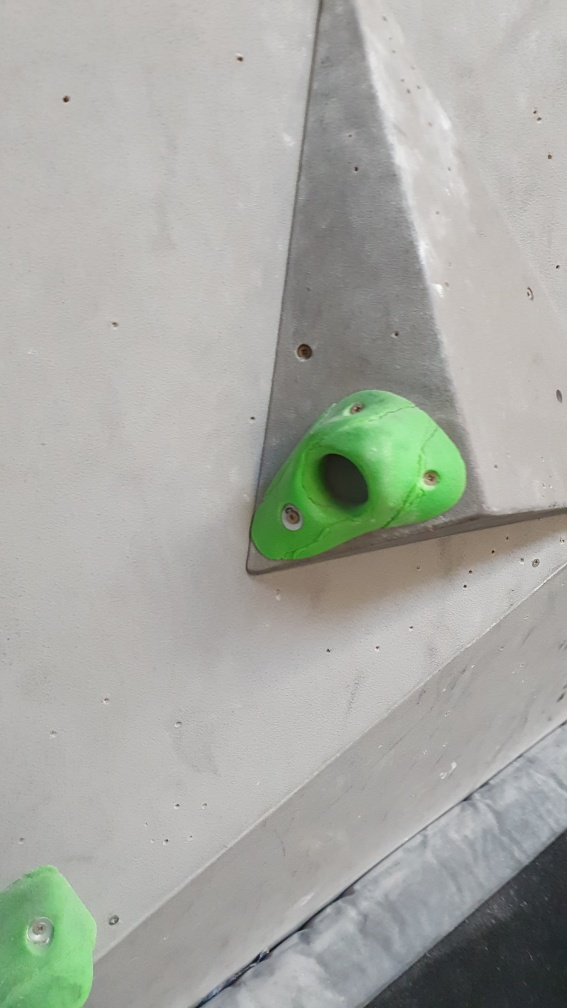Pocket: (253, 389, 466, 571)
